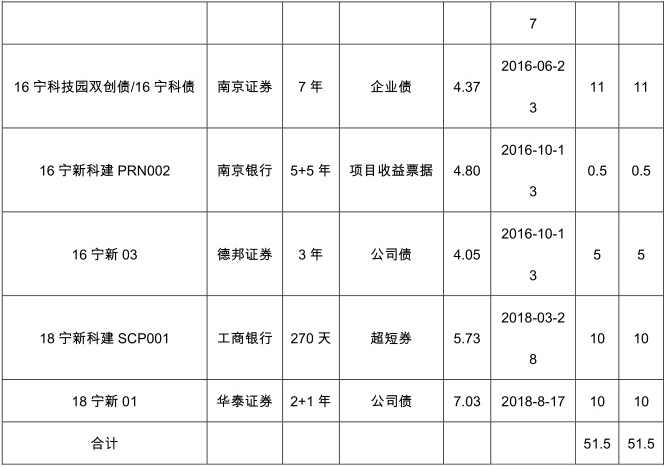column: (14, 1, 196, 467), (350, 1, 434, 467), (502, 2, 564, 467), (216, 1, 273, 467), (289, 1, 332, 467), (453, 1, 482, 467), (585, 1, 612, 467), (627, 1, 654, 467)
row: (1, 57, 665, 75), (1, 330, 665, 348), (1, 77, 665, 94), (4, 141, 665, 158), (3, 163, 665, 179), (4, 226, 665, 242), (4, 247, 665, 263), (1, 100, 665, 115), (2, 183, 665, 198), (2, 15, 664, 30), (3, 311, 665, 326), (2, 270, 665, 283), (2, 352, 665, 365), (4, 436, 665, 449), (2, 394, 665, 406)
